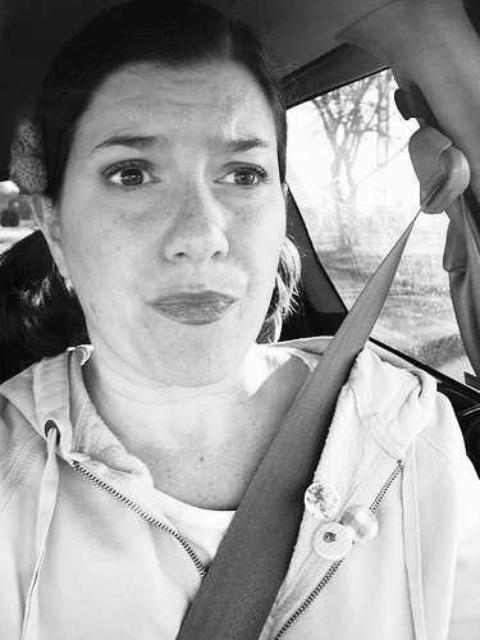SafeDriving: (94, 144, 170, 197), (204, 147, 275, 198)
Seatbelt: (169, 130, 464, 640)
